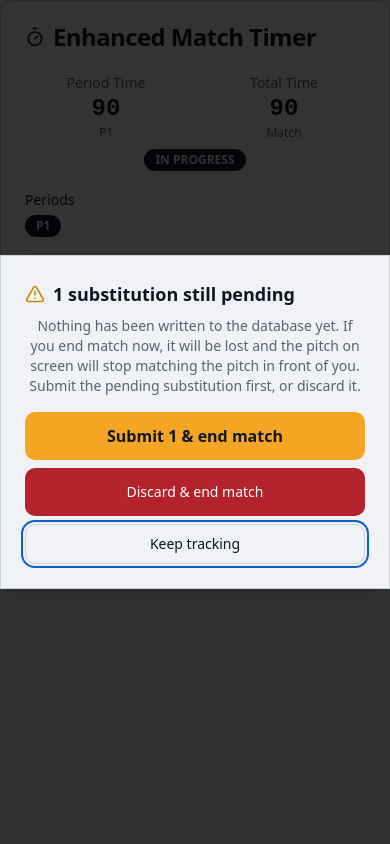
Test: EnhancedMatchControls › the confirm is gated, not just the trigger › with substitutions still pending (the UX-010 guard) › a guard opened while permitted, then displaced, neither submits, discards nor ends — and closes
Earlier steps of the test are not shown.
What coordinates should you click on to do the following:
click the button "Discard & end match"
I would click on:
 (195, 492)
Its box is [25,468,365,516].
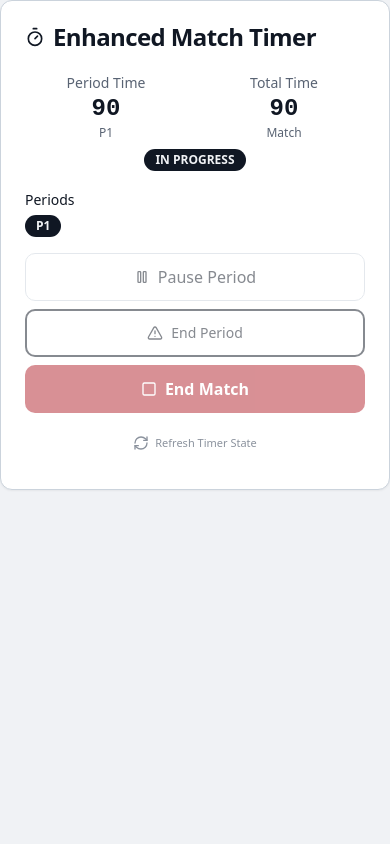
Now the dialog is gone
